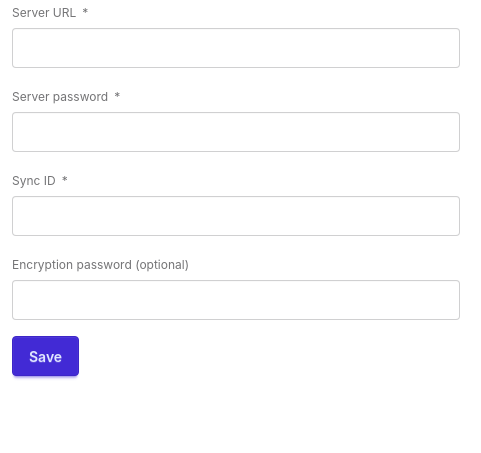
ActualSettingsPage › saves valid settings with a masked password field
Type "http://a.b" into the field labelled "Server URL" at (236, 48), box [12,28,460,68]
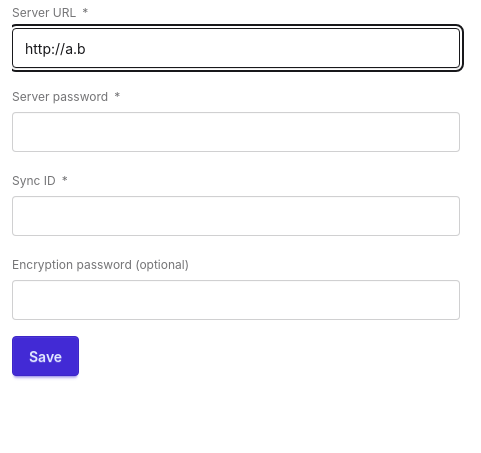
Type "secret" into the password field labelled "Server password" at (236, 132), box [12,112,460,152]
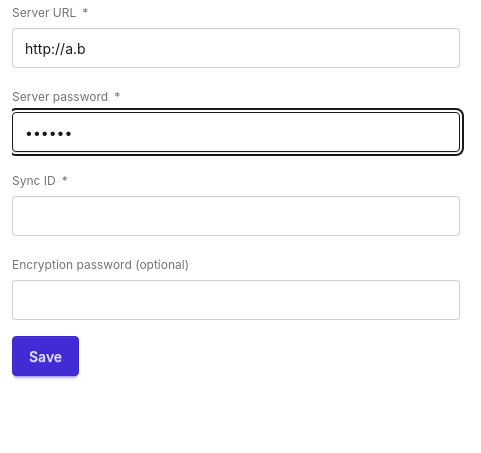
Type "sid" into the field labelled "Sync ID" at (236, 216), box [12,196,460,236]
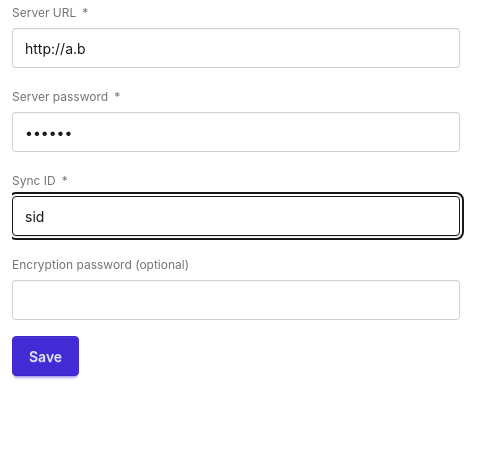
Click the button "Save" at (46, 356), box [12,336,79,376]
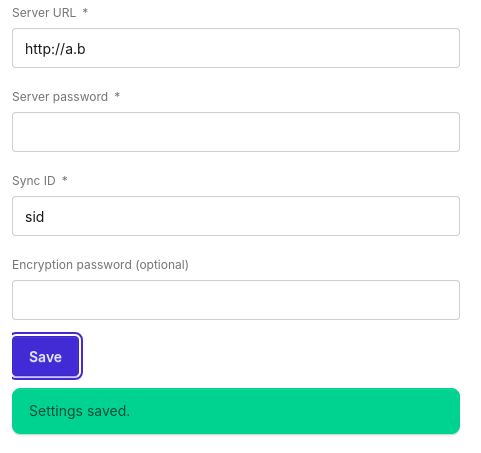
Result: the text "Settings saved." is shown at [12,388,460,434]
